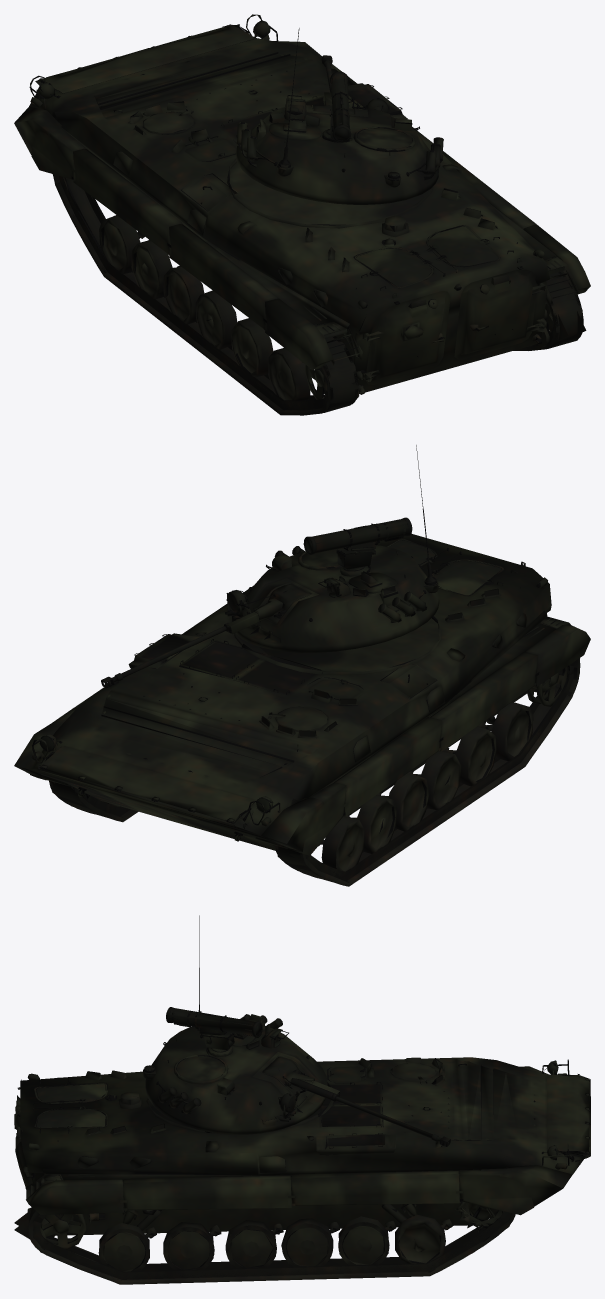
File: bmp2-wreck.glb
The picture shows the model from 3 angles, top to bottom: view 1: azimuth 30°, elevation 25°; view 2: azimuth 150°, elevation 25°; view 3: azimuth 270°, elevation 25°; orthographic projection. The views are drawn at different scales.
Parts seen in each view (by area): view 1: hull, turret; view 2: hull, turret, barrel; view 3: hull, turret, barrel.
Part boxes in pixels (x1=…): hull: x1=14, y1=14, x2=590, y2=415; turret: x1=235, y1=28, x2=443, y2=204; hull: x1=14, y1=533, x2=590, y2=886; turret: x1=225, y1=445, x2=439, y2=652; barrel: x1=101, y1=611, x2=270, y2=688; hull: x1=14, y1=1057, x2=590, y2=1284; turret: x1=143, y1=915, x2=327, y2=1134; barrel: x1=291, y1=1078, x2=450, y2=1146.
Size of the model in its own units: 3.24 by 3.83 by 6.72.
1 material, 1 textured.
